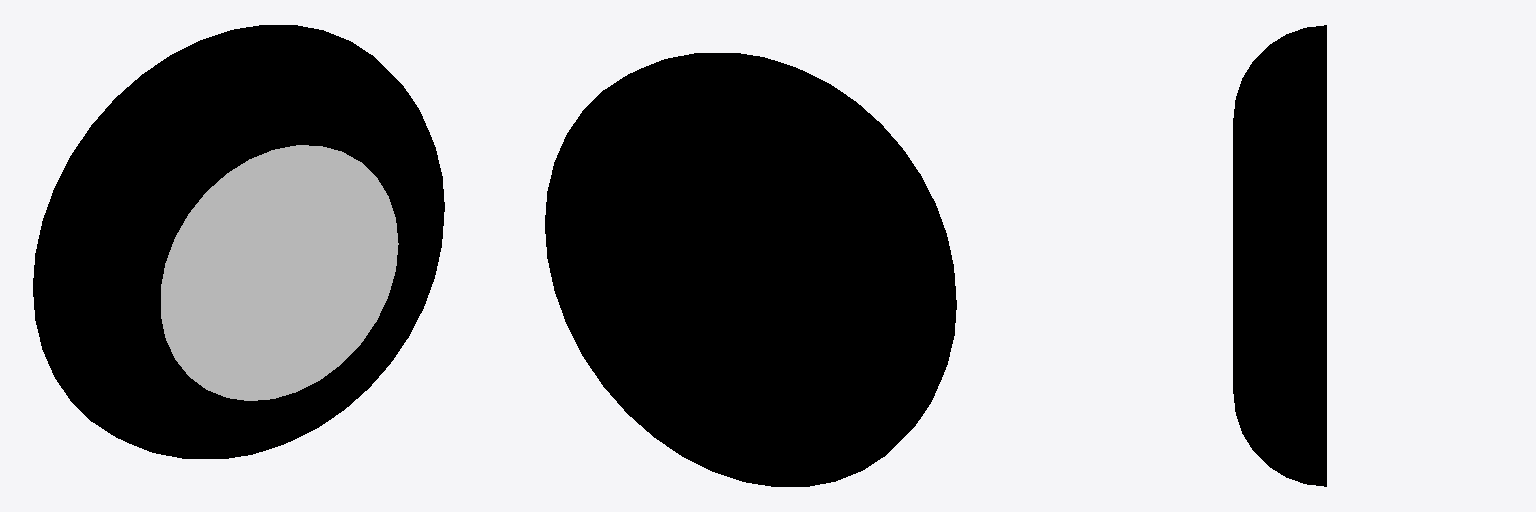
File: fret_tap.obj
3 renders of one model, left to right at view 1: azimuth 30°, elevation 25°; view 2: azimuth 150°, elevation 25°; view 3: azimuth 270°, elevation 25°, orthographic.
Parts seen in each view (by area): view 1: fret_tap; view 2: fret_tap; view 3: fret_tap.
Boxes of the visible parts, <box> form: fret_tap: <box>33,25,444,458</box>; fret_tap: <box>545,53,956,486</box>; fret_tap: <box>1233,25,1326,486</box>.
Size of the model in its own units: 0.248 by 0.248 by 0.05.